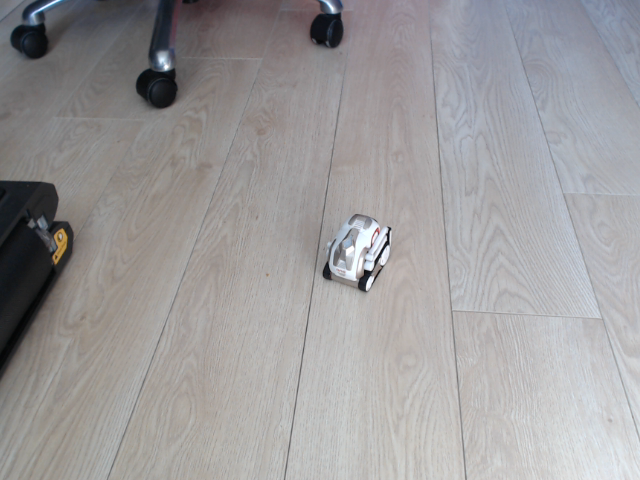cozmo: (322, 213, 393, 293)
